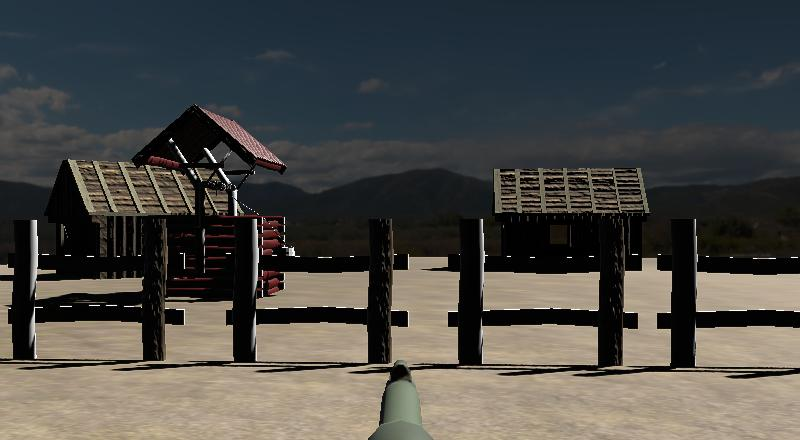House: (46, 157, 234, 282), (491, 167, 651, 273)
